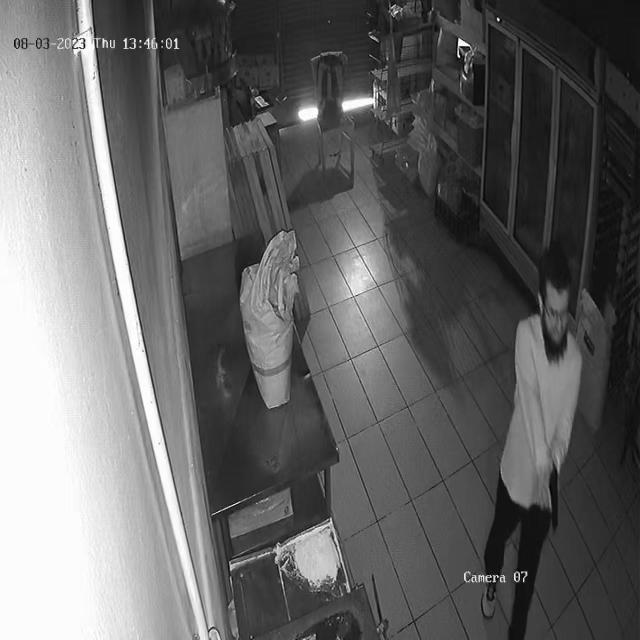Gun: (521, 444, 576, 531)
